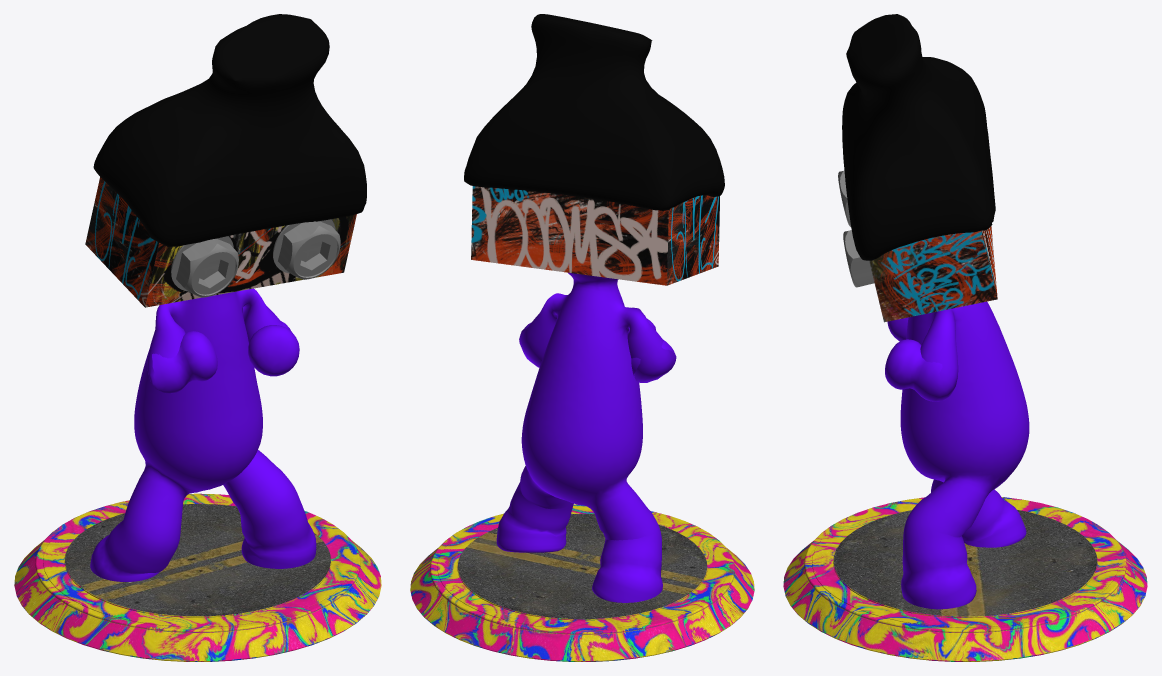
The model's file is 203_sanitized.glb.
The picture shows the model from 3 angles, left to right: view 1: azimuth 30°, elevation 25°; view 2: azimuth 150°, elevation 25°; view 3: azimuth 270°, elevation 25°; orthographic projection. The views are drawn at different scales.
Visible parts, largest first — view 1: BBody; view 2: BBody; view 3: BBody.
Boxes of the visible parts, <box> form: BBody: <box>14,14,381,661</box>; BBody: <box>410,14,754,661</box>; BBody: <box>783,14,1147,661</box>.
Bounding box in the file's own units: 1.45 × 2.51 × 1.45.
Materials: 6 (3 with a texture image).
